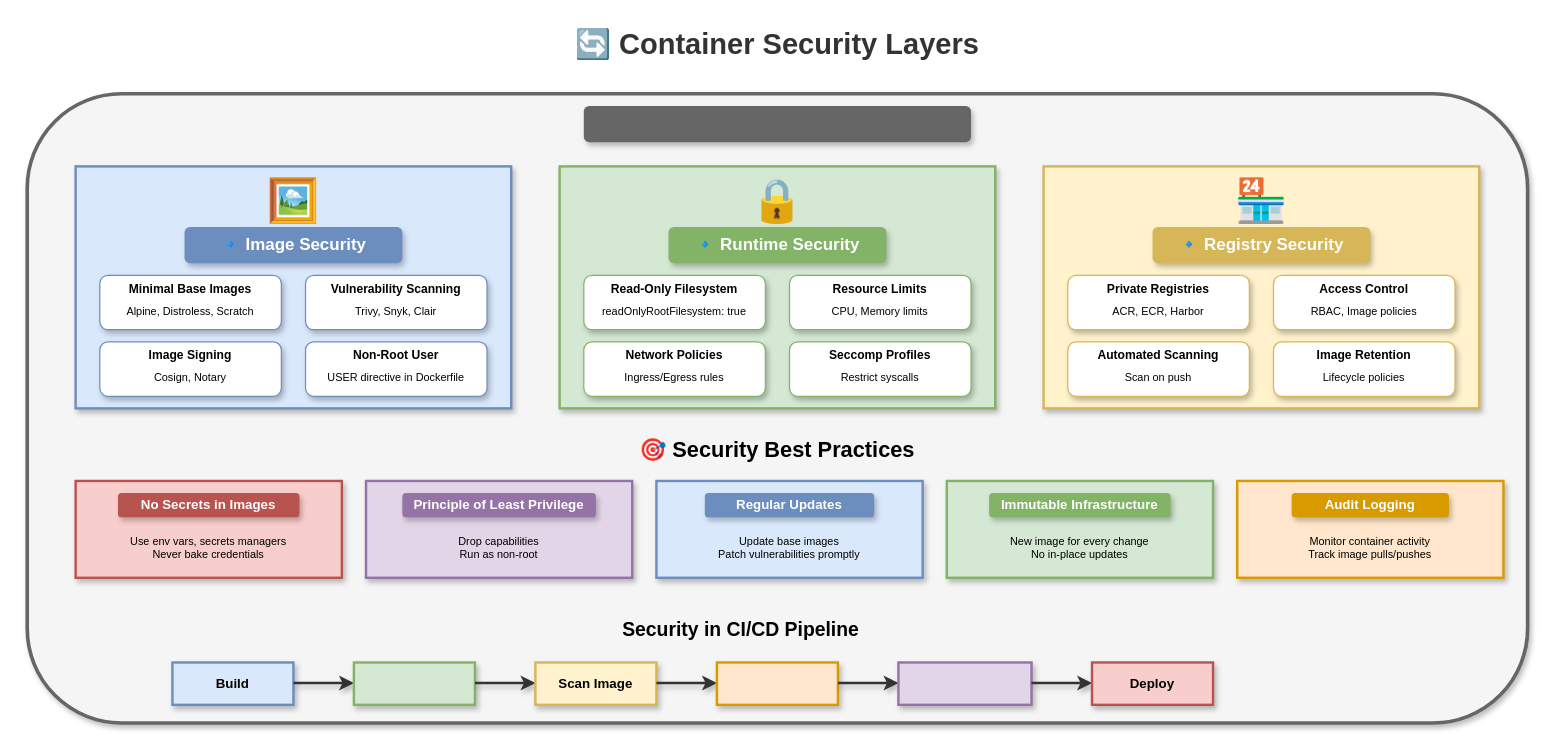
The diagram is 1557 pixels wide and 754 high, and some of its shapes have lost their labels. The shapes that lost their labels are listed below. From the top down, each one's centre as x and y in pixels, then its label:
At (778,125): "Container Security Framework".
At (415,685): "Lint Dockerfile".
At (778,685): "Sign Image".
At (965,685): "Push to Registry".
